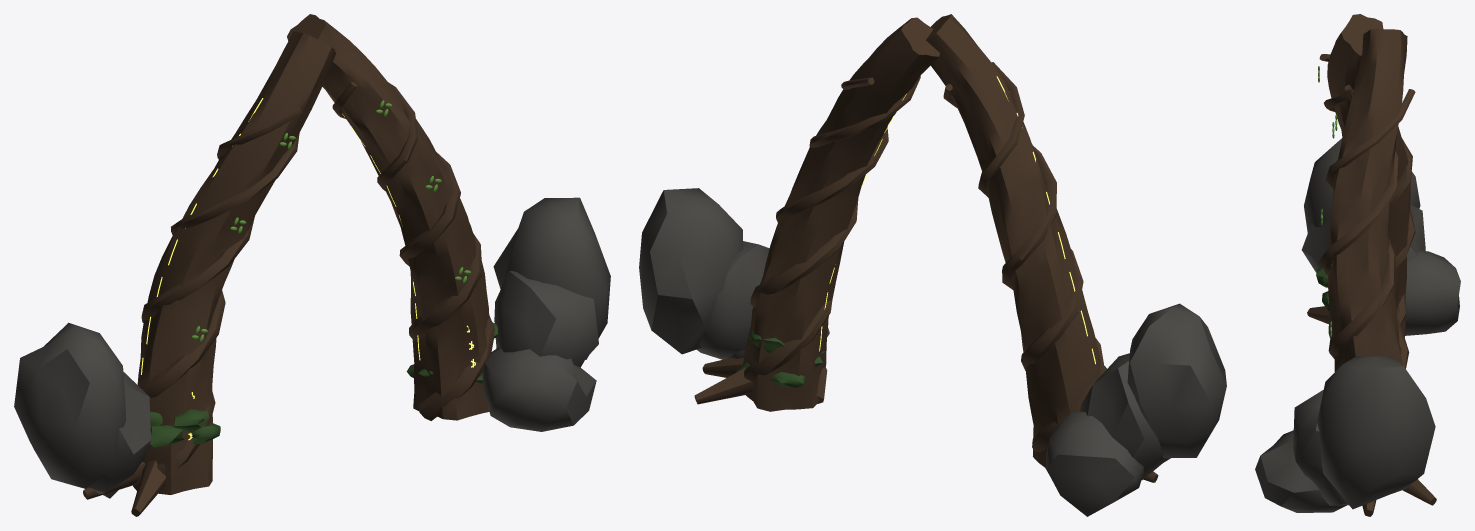
Rendered from portal_raiz.glb.
3 views of the same model, side by side, from view 1: azimuth 30°, elevation 25°; view 2: azimuth 150°, elevation 25°; view 3: azimuth 270°, elevation 25° (orthographic). The views are drawn at different scales.
Visible parts, largest first — view 1: PortalRaiz; view 2: PortalRaiz; view 3: PortalRaiz.
Part boxes in pixels (x1,y1,x2,y2): PortalRaiz: (14, 14, 610, 516); PortalRaiz: (639, 14, 1226, 516); PortalRaiz: (1255, 14, 1460, 516).
Size of the model in its own units: 6.99 by 4.95 by 2.29.
